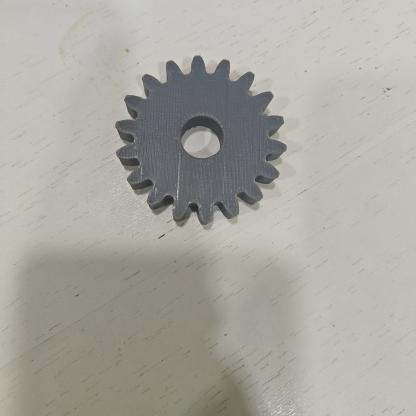gear: (102, 44, 300, 236)
